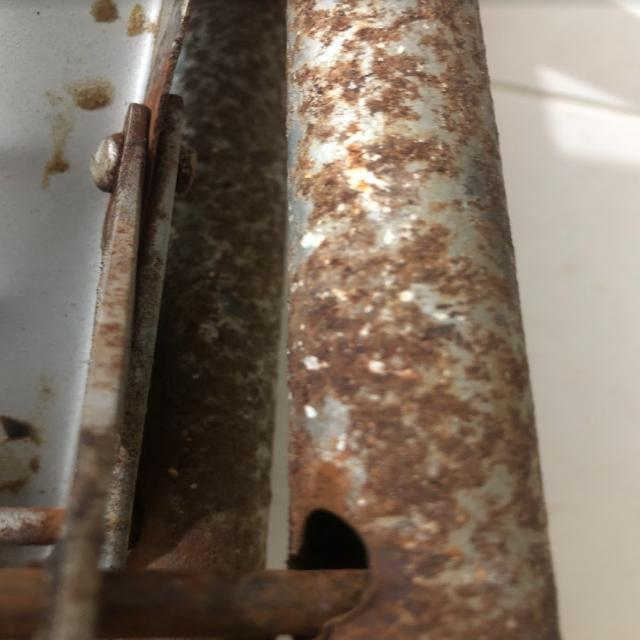Corrosion: (0, 0, 565, 640)
